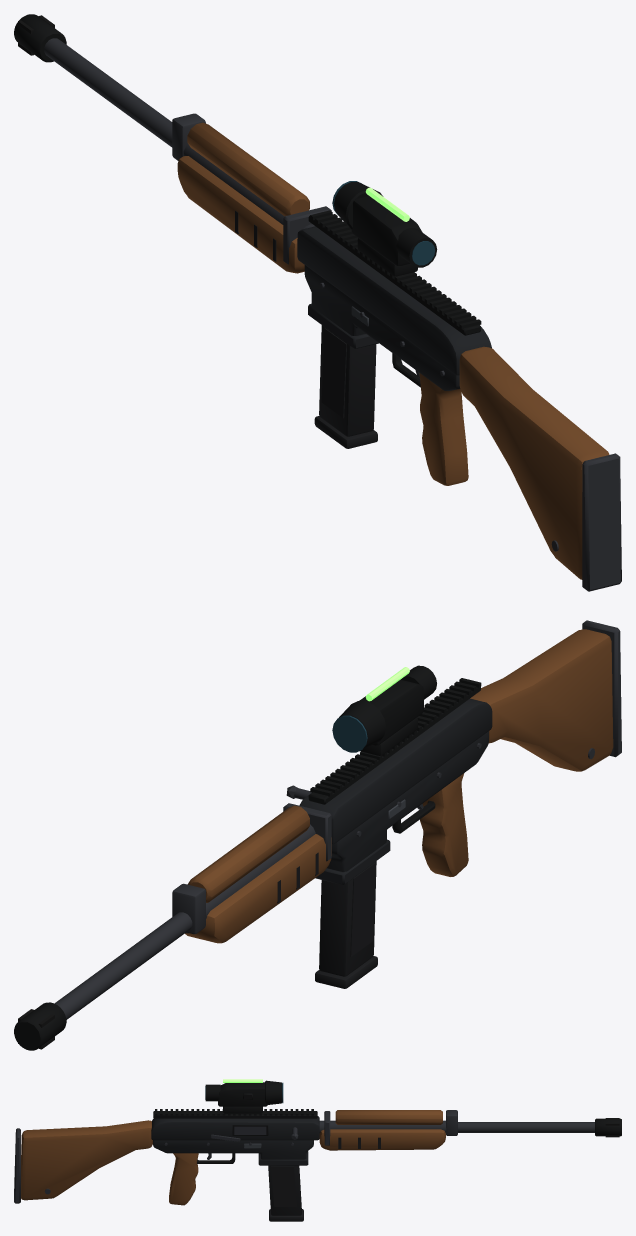
The model's file is gun_14.glb.
3 renders of one model, top to bottom at view 1: azimuth 30°, elevation 25°; view 2: azimuth 150°, elevation 25°; view 3: azimuth 270°, elevation 25°, orthographic. The views are drawn at different scales.
Visible parts, largest first — view 1: gun_14; view 2: gun_14; view 3: gun_14.
Part boxes in pixels (bbox=[...]): gun_14: bbox=[14, 14, 621, 591]; gun_14: bbox=[14, 620, 621, 1050]; gun_14: bbox=[14, 1079, 621, 1221].
Size of the model in its own units: 0.0893 by 0.3075 by 1.22.
